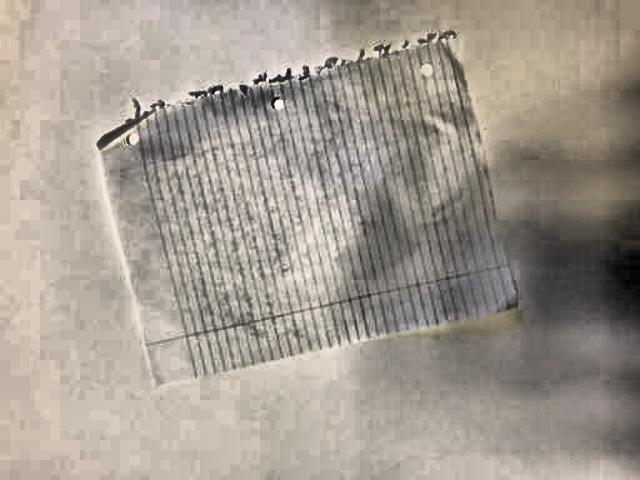Paper: (100, 31, 515, 360)
